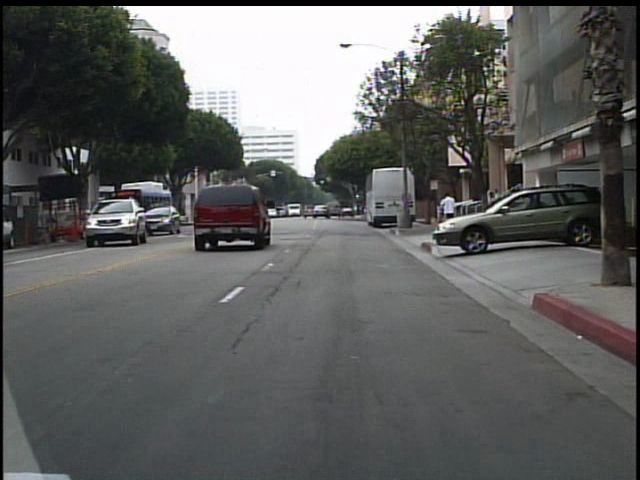person: (437, 189, 459, 237)
